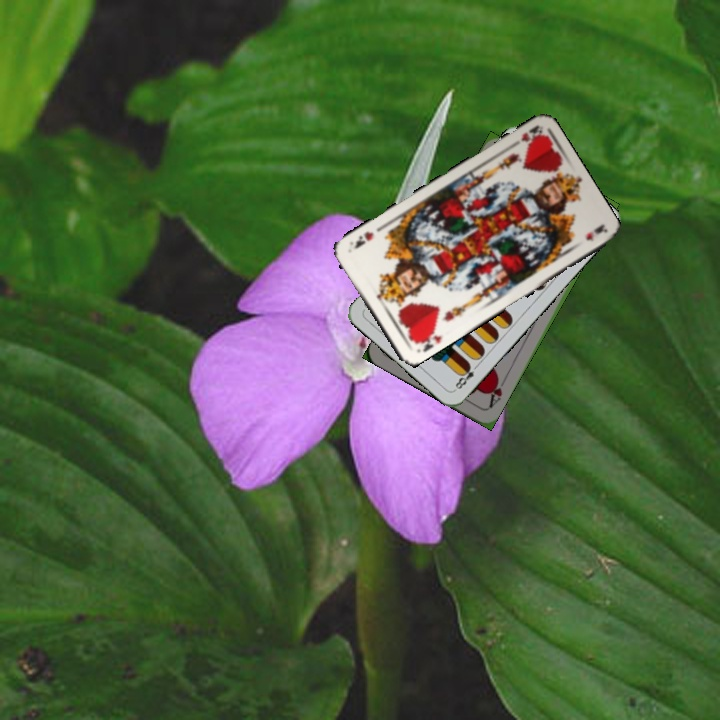E8: (451, 360, 482, 392)
HA: (484, 373, 509, 411)
HK: (505, 122, 545, 151), (410, 325, 445, 355)
